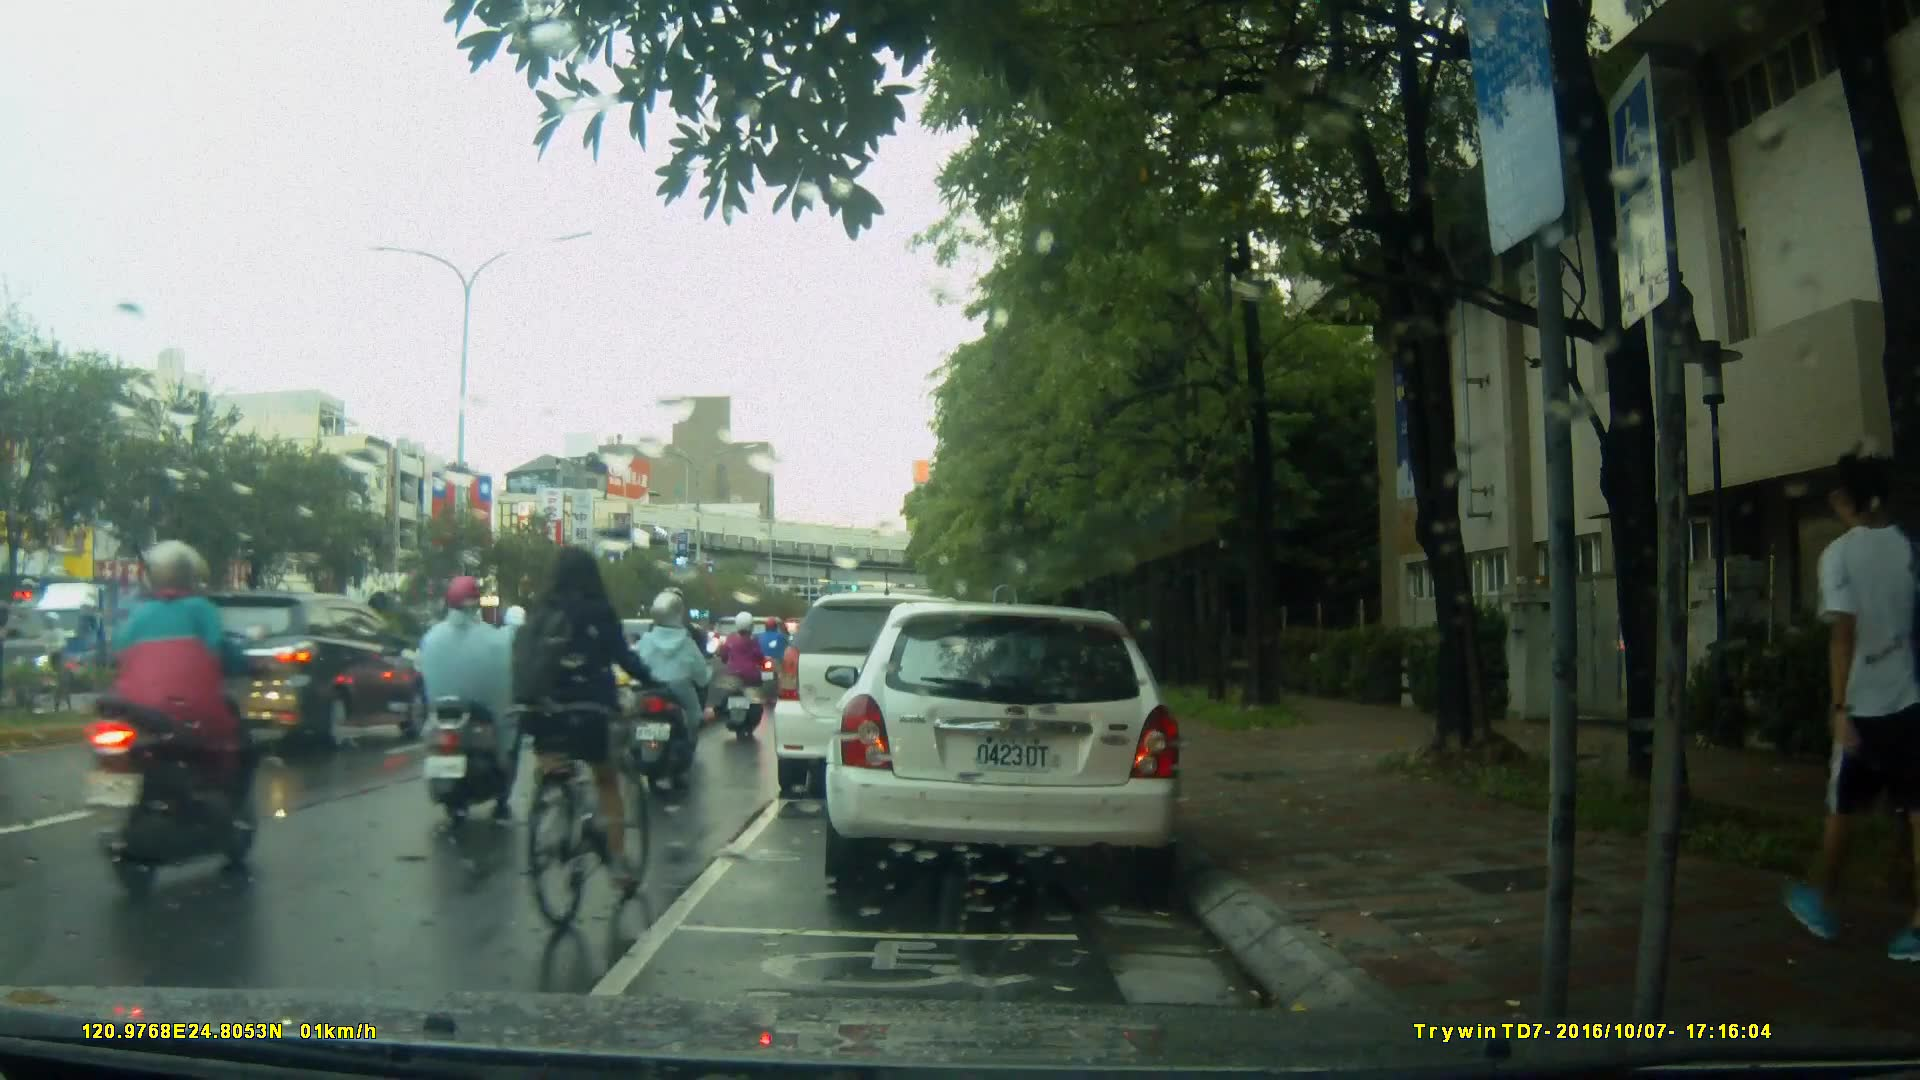pedestrian: (1795, 465, 1920, 973)
rider: (85, 538, 262, 891), (528, 544, 655, 921), (417, 574, 526, 836), (639, 591, 715, 782), (640, 588, 720, 766), (544, 595, 622, 774), (489, 609, 559, 750), (715, 618, 772, 748), (745, 611, 791, 688)
vehicle: (822, 604, 1188, 883), (149, 590, 437, 754), (774, 595, 995, 802), (20, 576, 161, 697)
